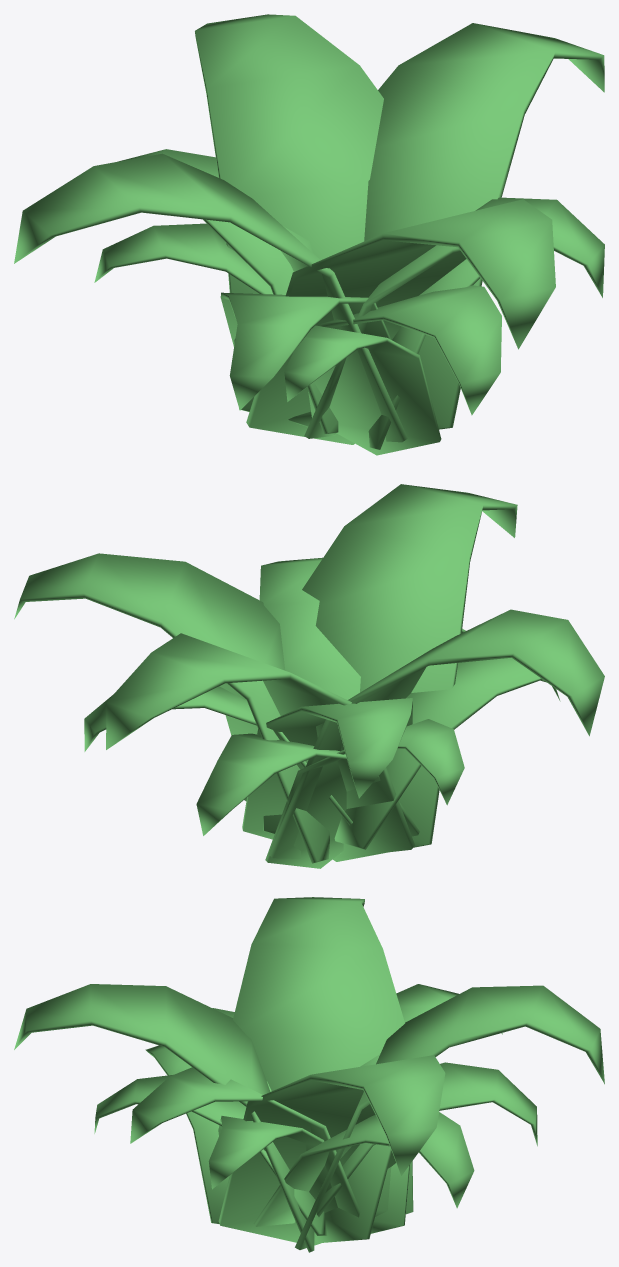
Rendered from fern.fbx.
The picture shows the model from 3 angles, top to bottom: view 1: azimuth 30°, elevation 25°; view 2: azimuth 150°, elevation 25°; view 3: azimuth 270°, elevation 25°; orthographic projection. The views are drawn at different scales.
Parts seen in each view (by area): view 1: Cube_007; view 2: Cube_007; view 3: Cube_007.
Boxes of the visible parts, left/top/right/bottom form: Cube_007: left=14, top=14, right=604, bottom=455; Cube_007: left=14, top=484, right=604, bottom=868; Cube_007: left=14, top=897, right=604, bottom=1252.
Bounding box in the file's own units: 8.8 × 4.27 × 8.95.
